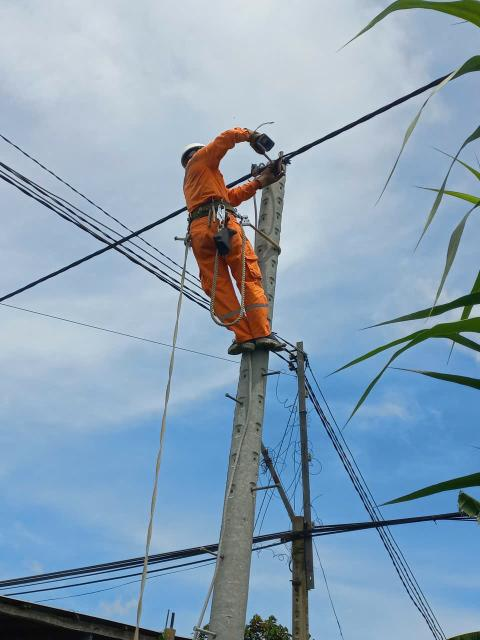gloves: (248, 127, 278, 160), (257, 163, 291, 188)
harness: (182, 194, 252, 221)
helmet: (168, 139, 210, 163)
shoes: (260, 327, 291, 358), (225, 334, 259, 358)
